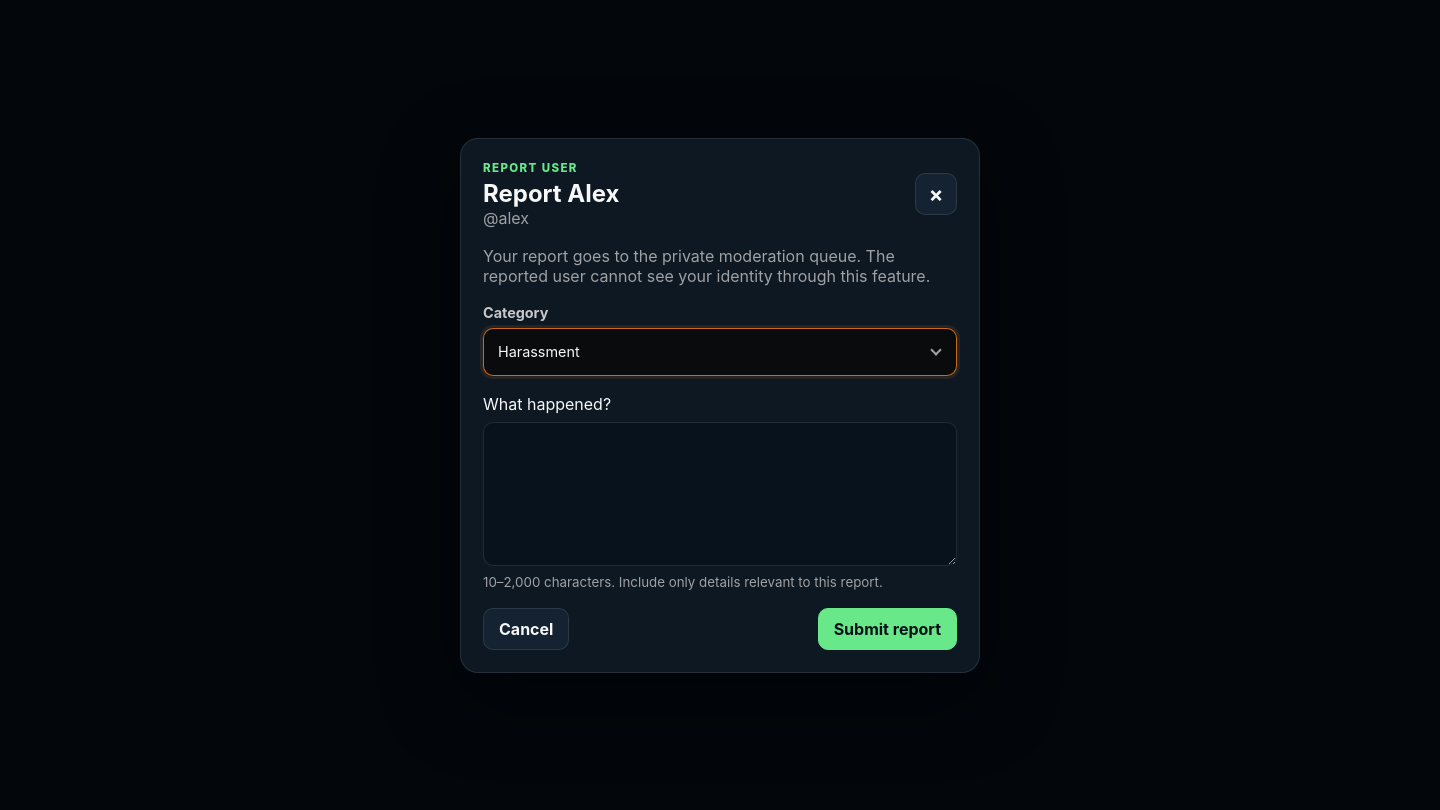
Test: UserReportDialog › requires a meaningful description before creating a report
Type "short" into the text box labelled "What happened?". click: (720, 494)
box: [483,422,957,566]
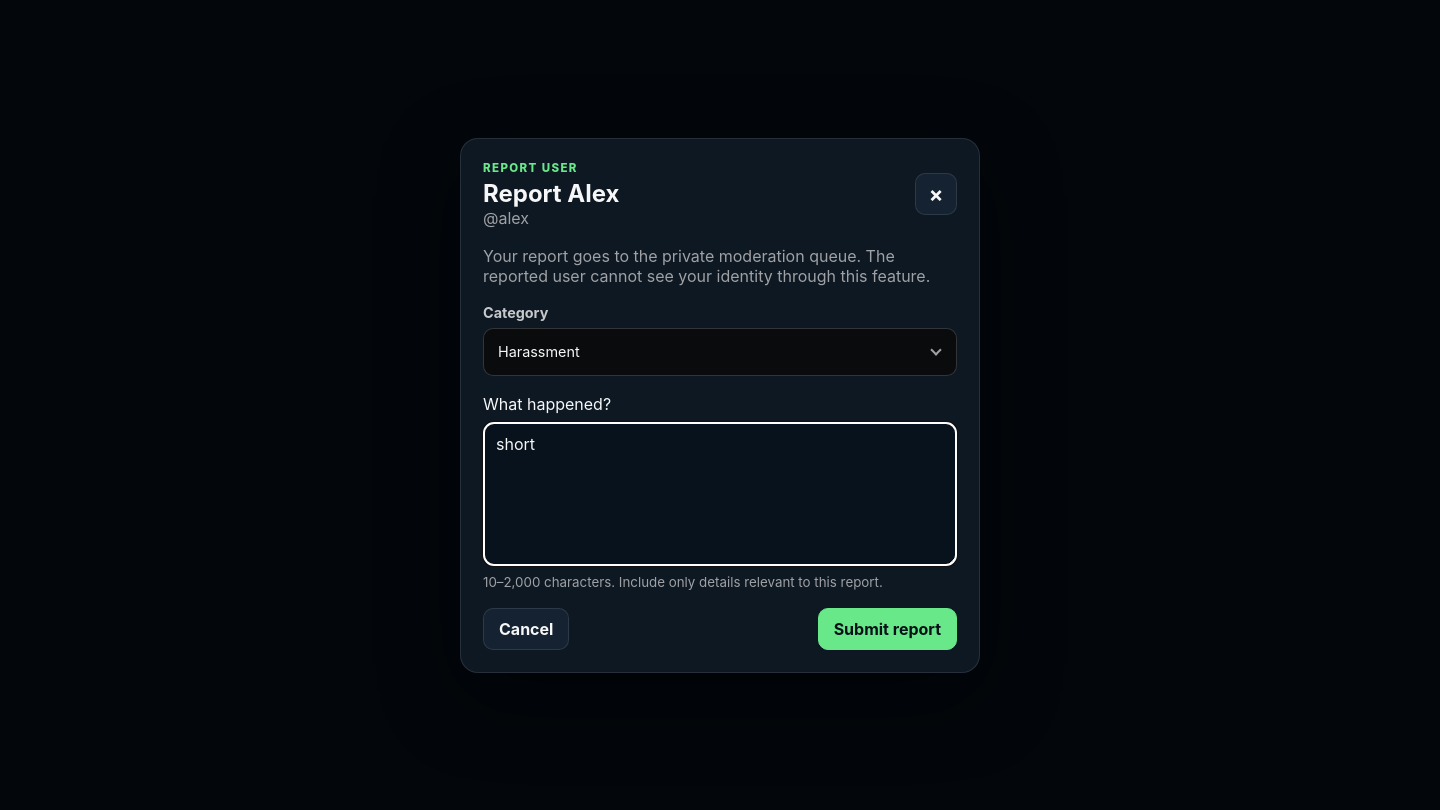
Click the button "Submit report". click: (887, 628)
box: [818,608,957,650]
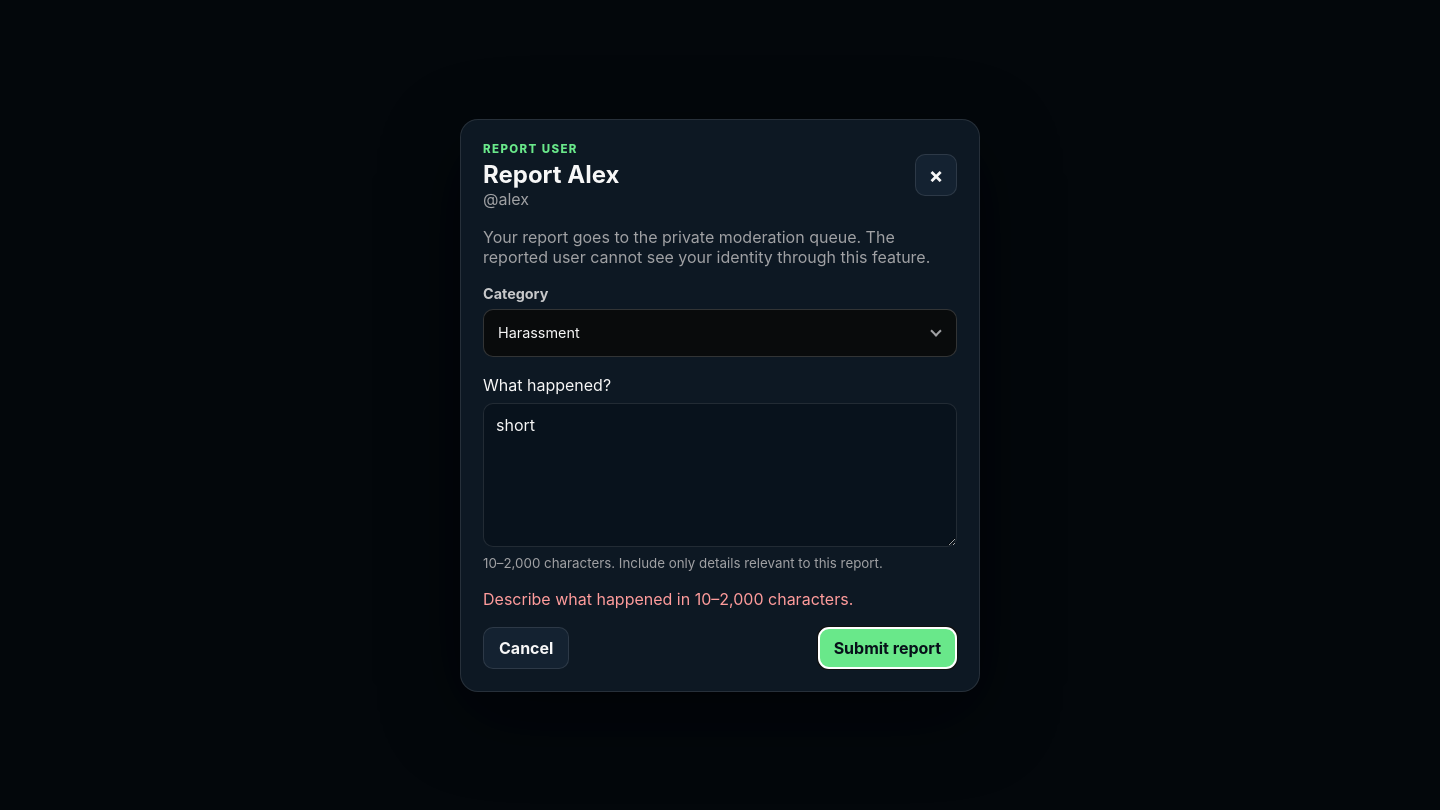
Now the message shows "10–2,000 characters", box [483,588,853,608]
